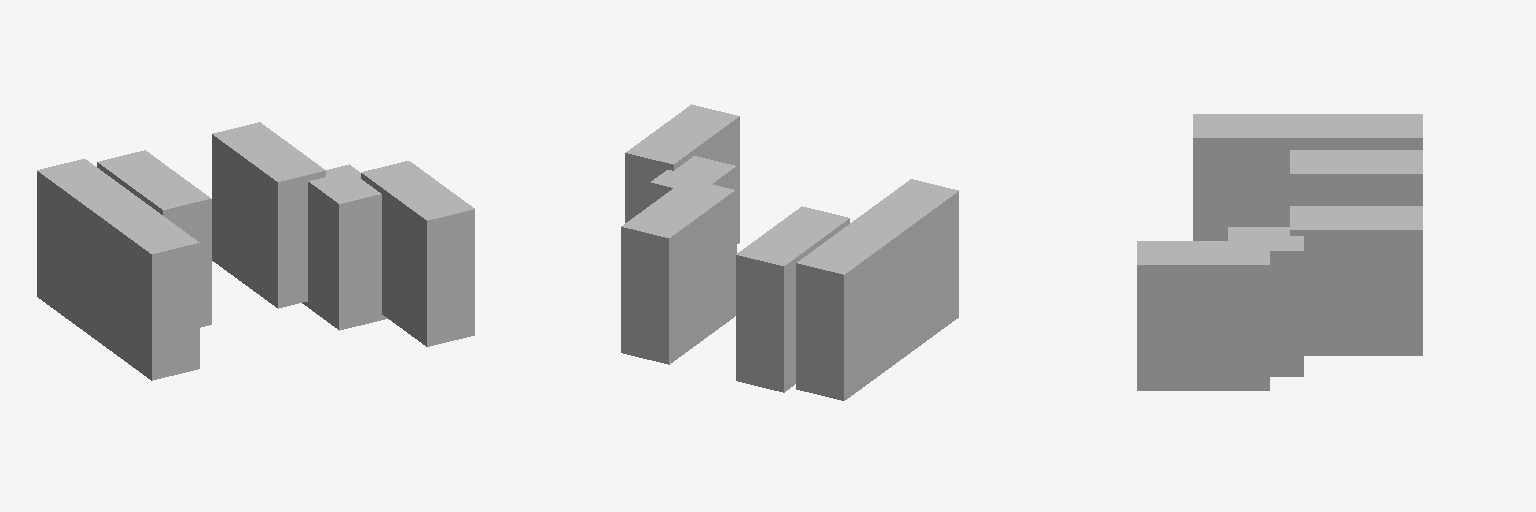
The model's file is obstacle.obj.
The picture shows the model from 3 angles: view 1: azimuth 30°, elevation 25°; view 2: azimuth 150°, elevation 25°; view 3: azimuth 270°, elevation 25°; orthographic projection.
Visible parts, largest first — view 1: obj_0; view 2: obj_0; view 3: obj_0.
Part boxes in pixels (bbox=[...]): obj_0: bbox=[37, 122, 474, 380]; obj_0: bbox=[621, 104, 958, 400]; obj_0: bbox=[1137, 114, 1422, 390].
Size of the model in its own units: 49 by 22 by 41.